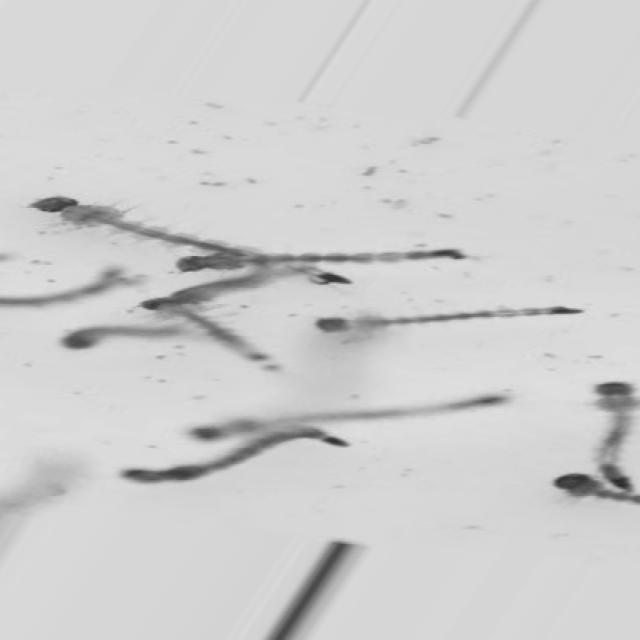larvas: (118, 424, 348, 501), (193, 387, 502, 443), (32, 196, 255, 254), (144, 267, 351, 319), (180, 301, 281, 378), (319, 304, 578, 334), (174, 251, 459, 274), (0, 274, 129, 309), (596, 371, 629, 484), (66, 322, 184, 350), (556, 469, 640, 508)
